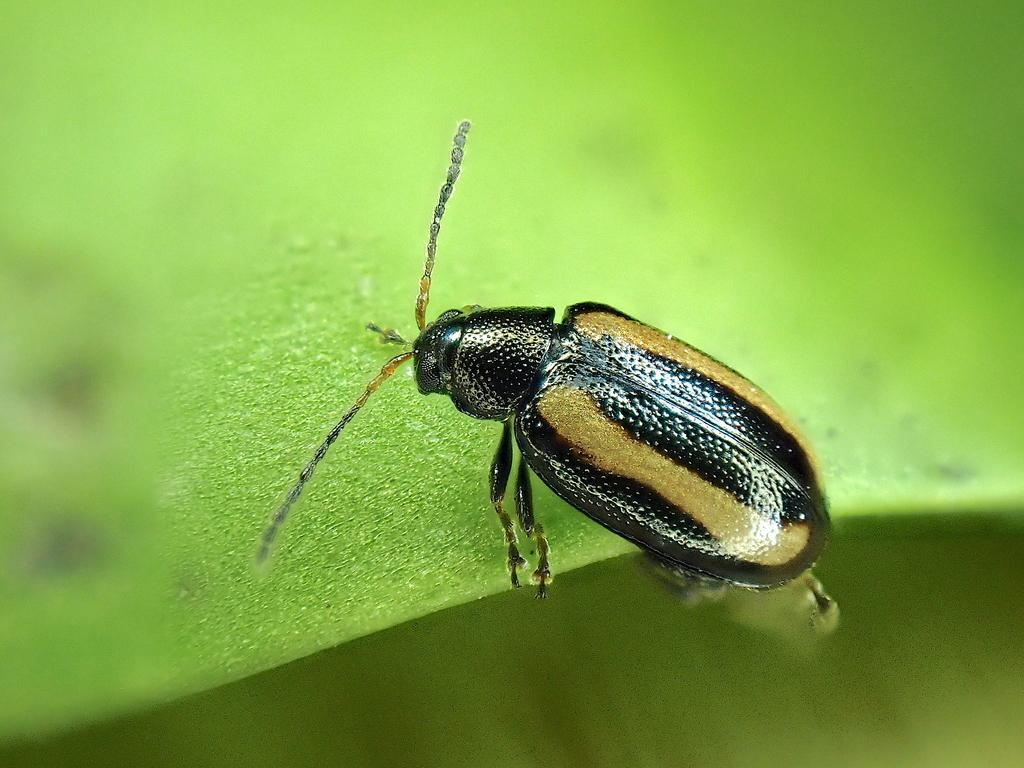flea_beetle: (201, 48, 896, 671)
